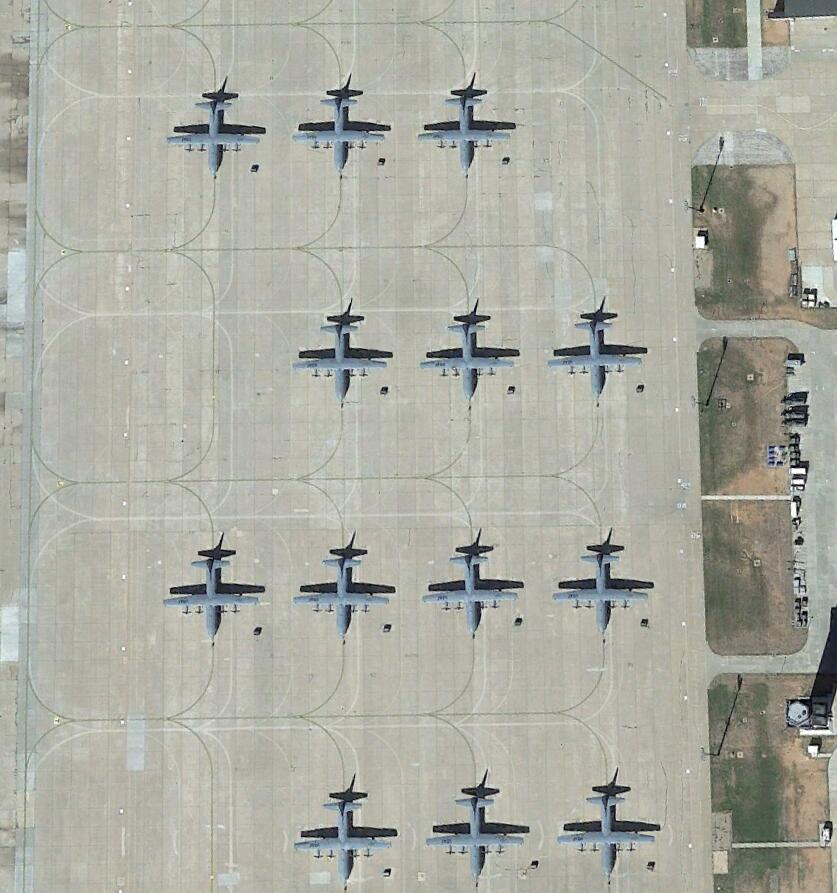A2: (289, 773, 399, 886), (287, 529, 400, 638), (554, 765, 662, 876), (162, 530, 267, 644), (417, 530, 529, 636), (429, 766, 534, 879), (547, 528, 656, 636), (415, 73, 522, 179), (550, 290, 652, 399), (161, 73, 265, 179), (291, 309, 400, 407), (290, 74, 394, 173), (424, 301, 522, 403)
